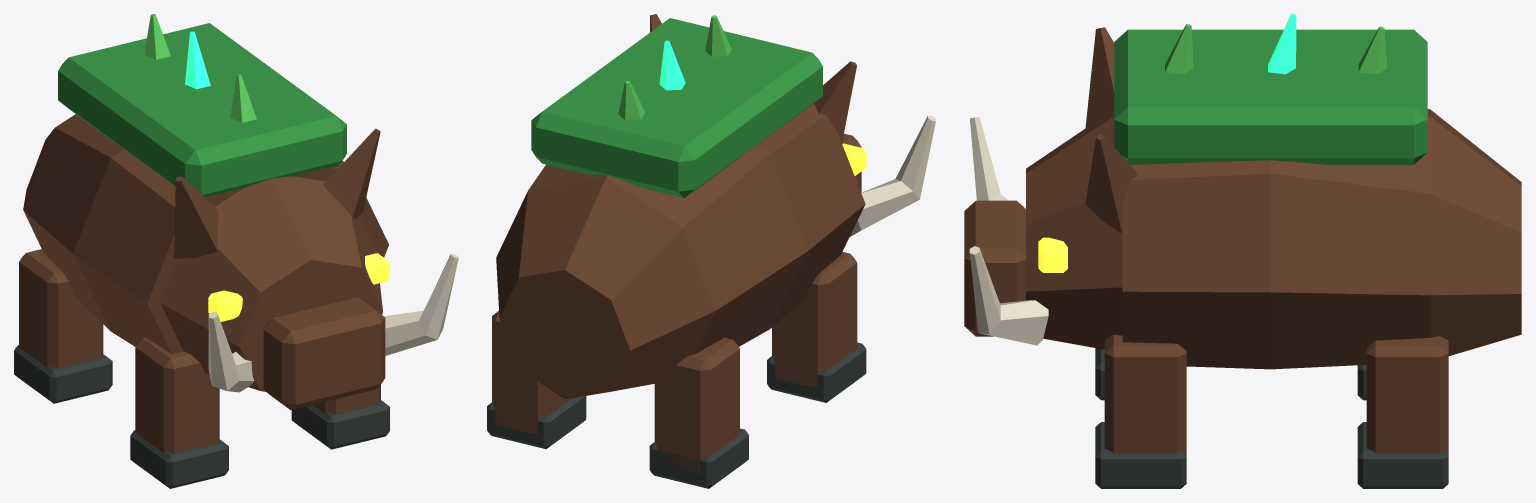
Rendered from EM_Mob_BrambleBoar.glb.
3 renders of one model, left to right at view 1: azimuth 30°, elevation 25°; view 2: azimuth 150°, elevation 25°; view 3: azimuth 270°, elevation 25°, orthographic. The views are drawn at different scales.
Visible parts, largest first — view 1: BrambleBoar__Head__BoarHide, BrambleBoar__Body__MossLeaf, BrambleBoar__Body__BoarHide, BrambleBoar__Legs__BoarHide, BrambleBoar__Legs__StoneDark, BrambleBoar__Head__Ivory, BrambleBoar__Body__MossBright, BrambleBoar__Head__AmberGlow, BrambleBoar__Body__JadeGlow; view 2: BrambleBoar__Body__BoarHide, BrambleBoar__Body__MossLeaf, BrambleBoar__Legs__BoarHide, BrambleBoar__Legs__StoneDark, BrambleBoar__Head__Ivory, BrambleBoar__Head__BoarHide, BrambleBoar__Body__MossBright, BrambleBoar__Body__JadeGlow, BrambleBoar__Head__AmberGlow; view 3: BrambleBoar__Body__BoarHide, BrambleBoar__Body__MossLeaf, BrambleBoar__Head__BoarHide, BrambleBoar__Legs__BoarHide, BrambleBoar__Legs__StoneDark, BrambleBoar__Head__Ivory, BrambleBoar__Body__MossBright, BrambleBoar__Body__JadeGlow, BrambleBoar__Head__AmberGlow.
Part boxes in pixels (<box>): BrambleBoar__Head__BoarHide: <box>160,128,385,410</box>; BrambleBoar__Body__MossLeaf: <box>58,23,346,197</box>; BrambleBoar__Body__BoarHide: <box>23,114,388,354</box>; BrambleBoar__Legs__BoarHide: <box>19,249,380,453</box>; BrambleBoar__Legs__StoneDark: <box>14,345,389,488</box>; BrambleBoar__Head__Ivory: <box>208,253,458,392</box>; BrambleBoar__Body__MossBright: <box>144,14,256,122</box>; BrambleBoar__Head__AmberGlow: <box>208,253,389,321</box>; BrambleBoar__Body__JadeGlow: <box>185,31,210,89</box>; BrambleBoar__Body__BoarHide: <box>496,103,865,399</box>; BrambleBoar__Body__MossLeaf: <box>531,18,822,198</box>; BrambleBoar__Legs__BoarHide: <box>492,252,857,474</box>; BrambleBoar__Legs__StoneDark: <box>487,342,866,488</box>; BrambleBoar__Head__Ivory: <box>850,115,935,236</box>; BrambleBoar__Head__BoarHide: <box>650,14,861,192</box>; BrambleBoar__Body__MossBright: <box>618,15,731,120</box>; BrambleBoar__Body__JadeGlow: <box>659,40,685,90</box>; BrambleBoar__Head__AmberGlow: <box>842,143,866,175</box>; BrambleBoar__Body__BoarHide: <box>1122,109,1521,369</box>; BrambleBoar__Body__MossLeaf: <box>1114,29,1427,164</box>; BrambleBoar__Head__BoarHide: <box>964,27,1138,349</box>; BrambleBoar__Legs__BoarHide: <box>1104,334,1448,453</box>; BrambleBoar__Legs__StoneDark: <box>1095,348,1448,488</box>; BrambleBoar__Head__Ivory: <box>969,116,1048,345</box>; BrambleBoar__Body__MossBright: <box>1165,24,1387,74</box>; BrambleBoar__Body__JadeGlow: <box>1268,14,1296,74</box>; BrambleBoar__Head__AmberGlow: <box>1038,237,1067,272</box>.
Size of the model in its own units: 2.8 by 3.8 by 4.62.
